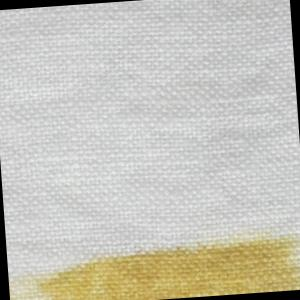Oil Stain: (8, 232, 300, 300)
